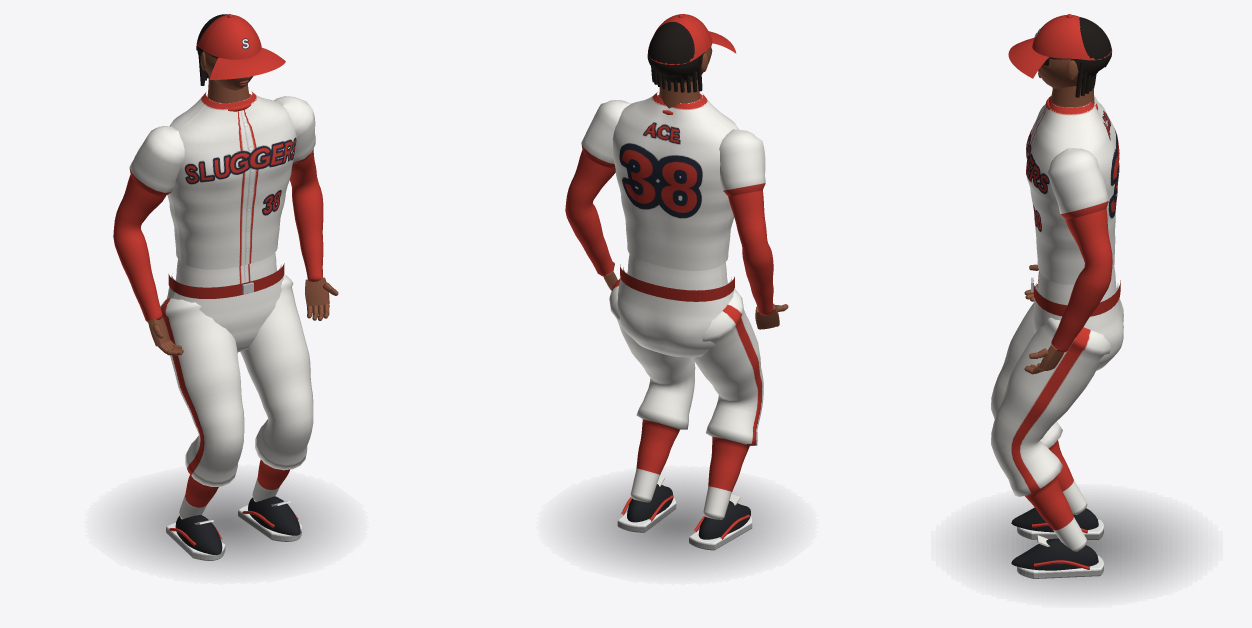
File: player_01_home.glb
3 views of the same model, side by side, from view 1: azimuth 30°, elevation 25°; view 2: azimuth 150°, elevation 25°; view 3: azimuth 270°, elevation 25° (orthographic). The views are drawn at different scales.
Visible parts, largest first — view 1: player_01_home, object 41, object 43, object 2; view 2: player_01_home, object 29, object 41, object 2; view 3: player_01_home, object 41, object 29, object 45, object 43, object 2.
Part boxes in pixels (x1,y1,x2,y2): player_01_home: [113, 91, 334, 570]; object 41: [196, 14, 261, 59]; object 43: [209, 47, 285, 79]; object 2: [207, 75, 249, 103]; player_01_home: [565, 92, 785, 570]; object 29: [647, 22, 710, 76]; object 41: [648, 14, 712, 64]; object 2: [659, 78, 700, 108]; player_01_home: [966, 95, 1187, 592]; object 41: [1032, 14, 1112, 60]; object 29: [1049, 17, 1111, 67]; object 45: [1038, 58, 1103, 88]; object 43: [1008, 37, 1049, 78]; object 2: [1051, 85, 1094, 107].
Size of the model in its own units: 3.47 by 6.41 by 3.47.
27 materials, 5 textured.
